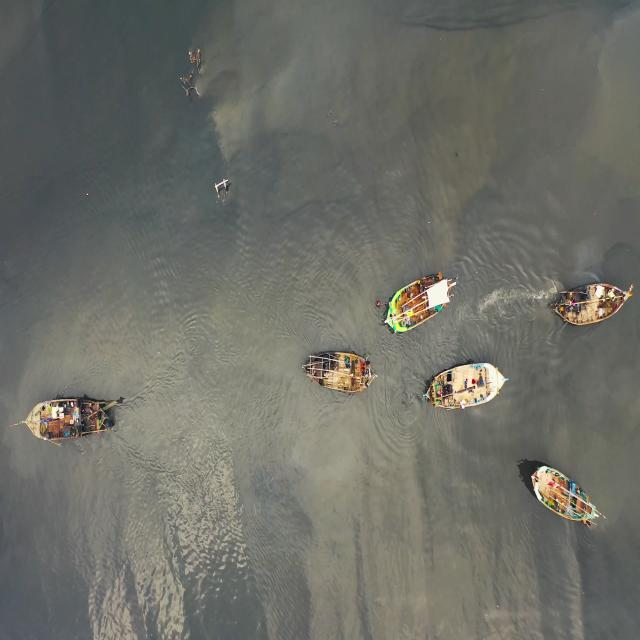ship: (378, 257, 457, 332), (423, 355, 512, 419), (524, 462, 602, 526), (24, 394, 121, 442), (551, 270, 632, 326), (304, 346, 378, 394)
